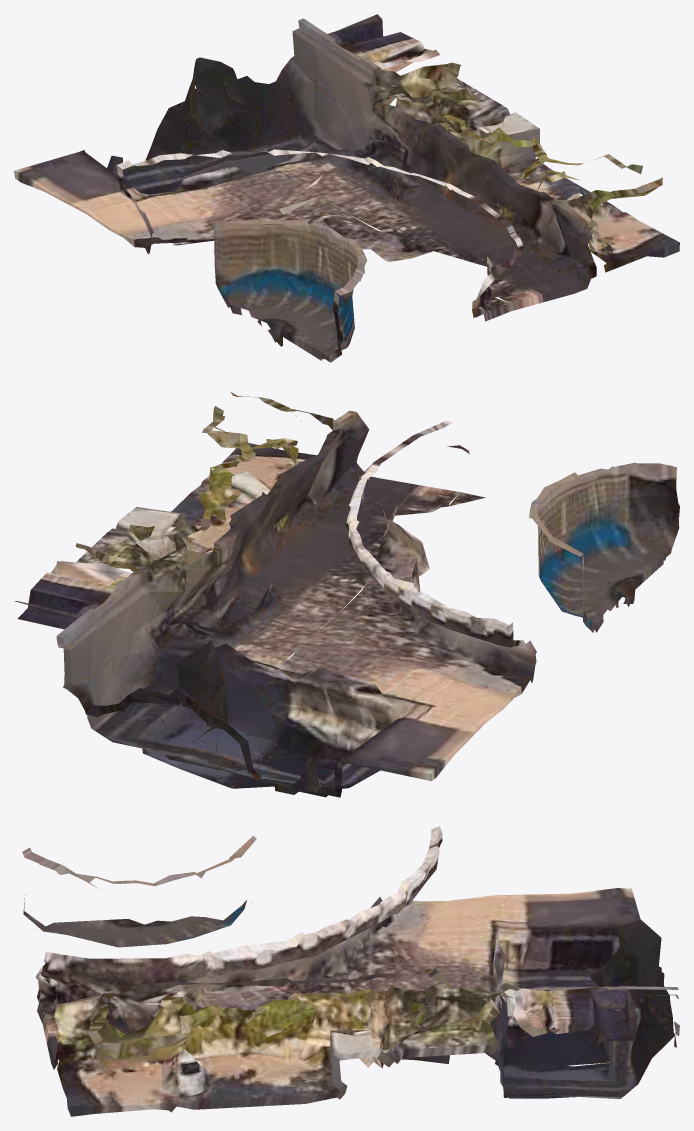
3 renders of one model, top to bottom at view 1: azimuth 30°, elevation 25°; view 2: azimuth 150°, elevation 25°; view 3: azimuth 270°, elevation 25°, orthographic. The views are drawn at different scales.
Visible parts, largest first — view 1: Mesh_0; view 2: Mesh_0; view 3: Mesh_0.
Boxes of the visible parts, x1,y1,x2,y2 form: Mesh_0: (14,14,679,362); Mesh_0: (14,391,679,797); Mesh_0: (22,826,679,1116).
Size of the model in its own units: 33.26 by 10.41 by 40.99.
1 material, 1 textured.
